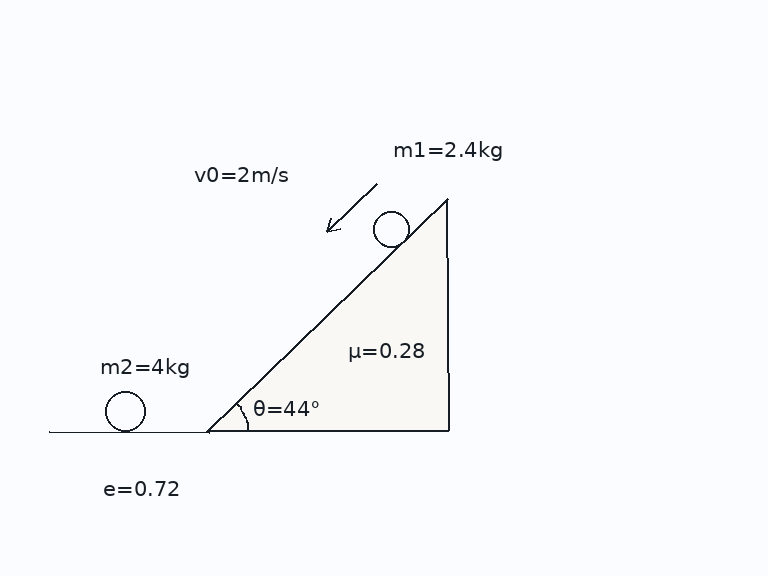ball: (103, 389, 147, 433), (371, 209, 411, 249)
ramp: (206, 198, 450, 433)
